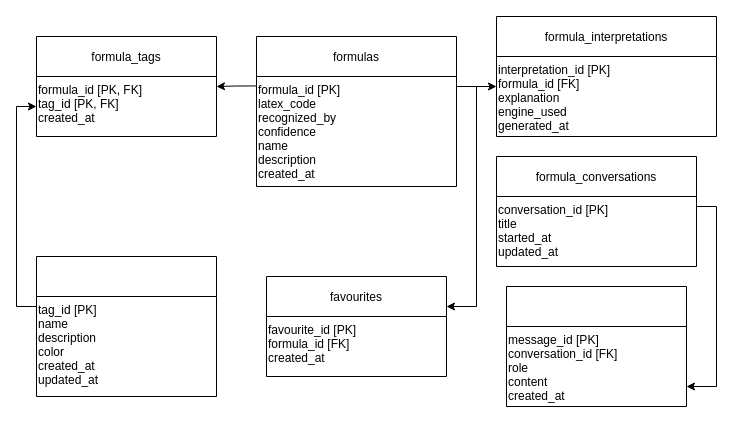
The diagram is 733 pixels wide and 423 high, and some of its shapes have lost their labels. The box of each missing label's shape, as (x1, y1, x2, y2) in pixels:
messages: (506, 286, 686, 406)
tags: (36, 256, 216, 396)
